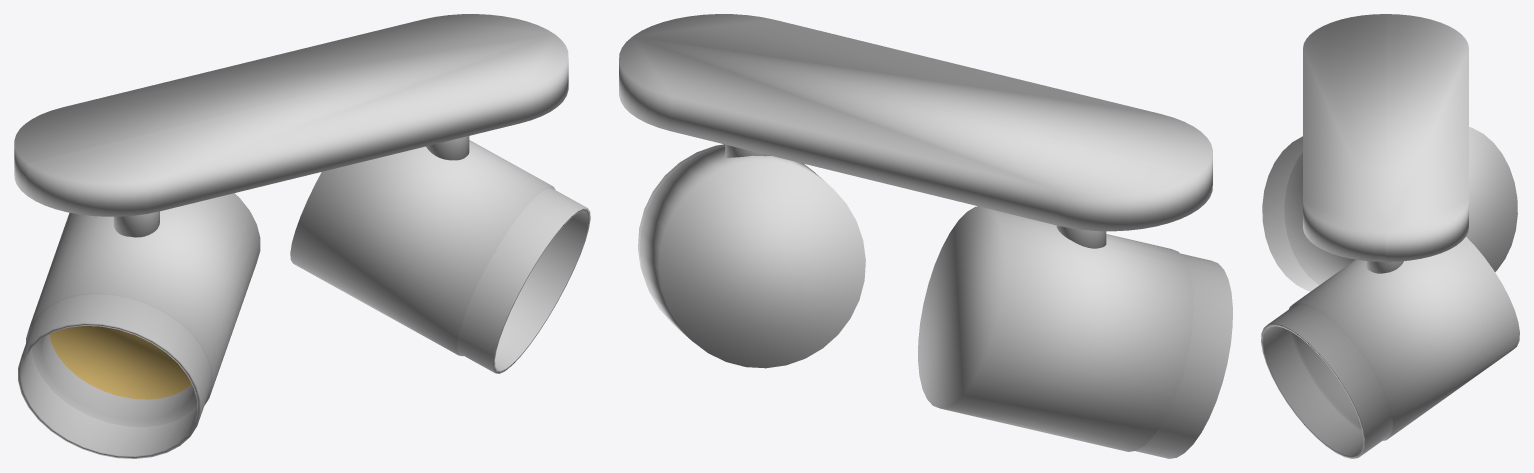
Rendered from Spotlight 1.fbx.
3 views of the same model, side by side, from view 1: azimuth 30°, elevation 25°; view 2: azimuth 150°, elevation 25°; view 3: azimuth 270°, elevation 25° (orthographic). The views are drawn at different scales.
Parts seen in each view (by area): view 1: Hue Spotlight; view 2: Hue Spotlight; view 3: Hue Spotlight.
Boxes of the visible parts, bbox=[...] form: Hue Spotlight: bbox=[14, 14, 590, 458]; Hue Spotlight: bbox=[619, 14, 1232, 458]; Hue Spotlight: bbox=[1261, 14, 1519, 458].
Bounding box in the file's own units: 35.6 × 17.85 × 16.8.
